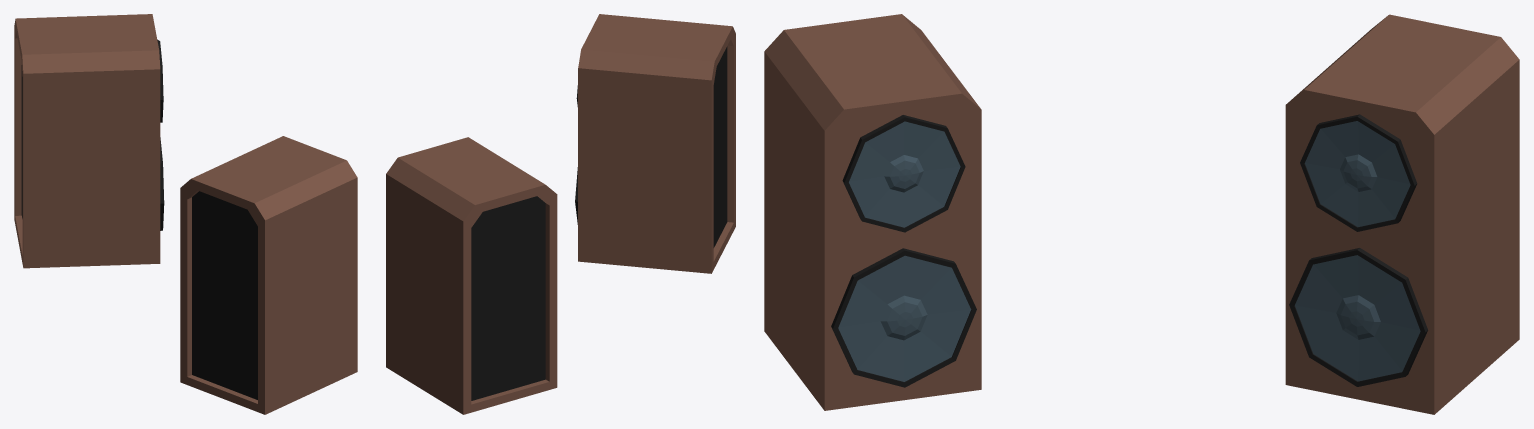
The model's file is Desk speakers.glb.
3 views of the same model, side by side, from view 1: azimuth 30°, elevation 25°; view 2: azimuth 150°, elevation 25°; view 3: azimuth 270°, elevation 25° (orthographic). The views are drawn at different scales.
Parts seen in each view (by area): view 1: Desk_Speakers_01_Cube; view 2: Desk_Speakers_01_Cube; view 3: Desk_Speakers_01_Cube.
Boxes of the visible parts, x1,y1,x2,y2 form: Desk_Speakers_01_Cube: (14, 14, 357, 414); Desk_Speakers_01_Cube: (386, 14, 735, 414); Desk_Speakers_01_Cube: (764, 14, 1519, 414).
Bounding box in the file's own units: 7.65 × 10 × 22.91.
